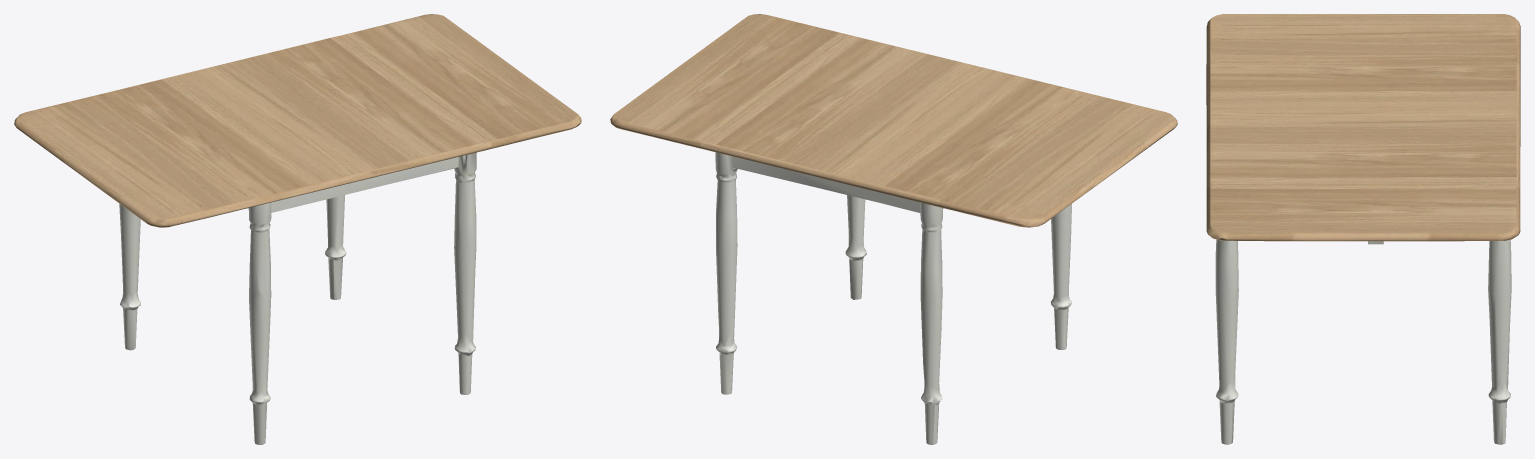
3 views of the same model, side by side, from view 1: azimuth 30°, elevation 25°; view 2: azimuth 150°, elevation 25°; view 3: azimuth 270°, elevation 25° (orthographic). The views are drawn at different scales.
Parts seen in each view (by area): view 1: ProcessedMeshNode; view 2: ProcessedMeshNode; view 3: ProcessedMeshNode.
Part boxes in pixels (x1,y1,x2,y2): ProcessedMeshNode: (14,14,581,444); ProcessedMeshNode: (610,14,1177,444); ProcessedMeshNode: (1206,14,1520,444).
Size of the model in its own units: 1.34 by 0.7505 by 0.8006.
1 material, 1 textured.
